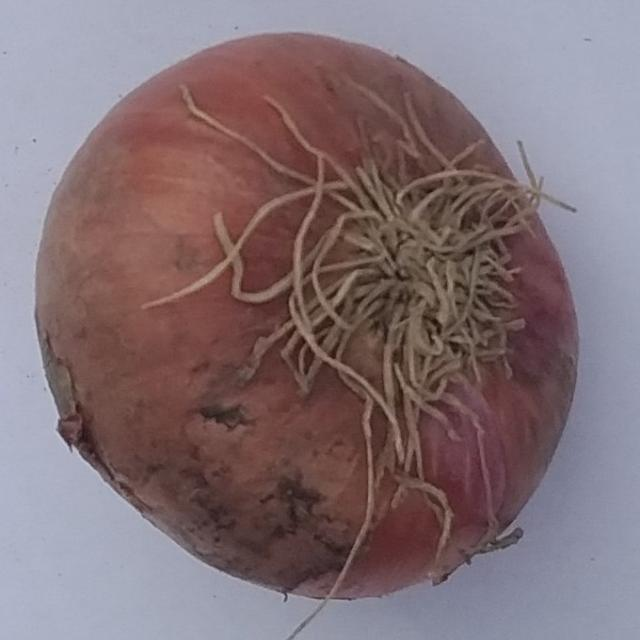onion: (38, 25, 584, 613)
